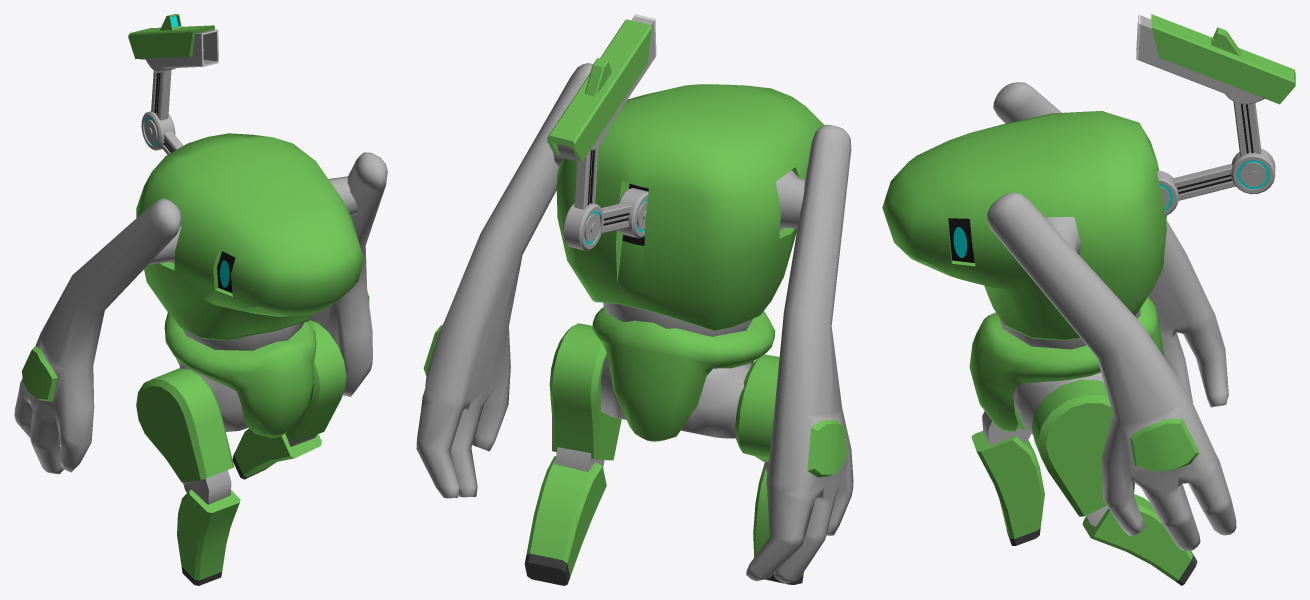
The model's file is Walk_01.fbx.
3 renders of one model, left to right at view 1: azimuth 30°, elevation 25°; view 2: azimuth 150°, elevation 25°; view 3: azimuth 270°, elevation 25°, orthographic. The views are drawn at different scales.
Parts seen in each view (by area): view 1: polySurface21, polySurface29, polySurface26, polySurface30, polySurface22, polySurface28, polySurface23, polySurface27, polySurface25, polySurface31; view 2: polySurface21, polySurface29, polySurface22, polySurface26, polySurface23, polySurface27, polySurface25, polySurface30, polySurface28, polySurface24; view 3: polySurface21, polySurface22, polySurface29, polySurface23, polySurface26, polySurface28, polySurface27, polySurface25, polySurface31.
Part boxes in pixels (x1,y1,x2,y2): polySurface21: (128, 14, 363, 350); polySurface29: (14, 198, 181, 474); polySurface26: (164, 312, 316, 437); polySurface30: (136, 368, 234, 482); polySurface22: (309, 152, 387, 396); polySurface28: (177, 490, 240, 585); polySurface23: (286, 320, 346, 441); polySurface27: (232, 428, 321, 479); polySurface25: (179, 362, 248, 431); polySurface31: (183, 470, 231, 504); polySurface21: (547, 14, 824, 336); polySurface29: (746, 124, 853, 583); polySurface22: (416, 63, 592, 498); polySurface26: (592, 307, 775, 441); polySurface23: (549, 323, 621, 460); polySurface27: (524, 456, 606, 585); polySurface25: (600, 356, 751, 438); polySurface30: (735, 354, 779, 461); polySurface28: (753, 462, 803, 584); polySurface24: (555, 447, 604, 471); polySurface21: (882, 14, 1295, 349); polySurface22: (986, 193, 1236, 551); polySurface29: (993, 82, 1228, 407); polySurface23: (1031, 379, 1112, 516); polySurface26: (969, 297, 1163, 431); polySurface28: (971, 431, 1044, 545); polySurface27: (1082, 494, 1197, 585); polySurface25: (1013, 372, 1103, 434); polySurface31: (982, 411, 1030, 445).
Bounding box in the file's own units: 2.47 × 3.53 × 2.39.
